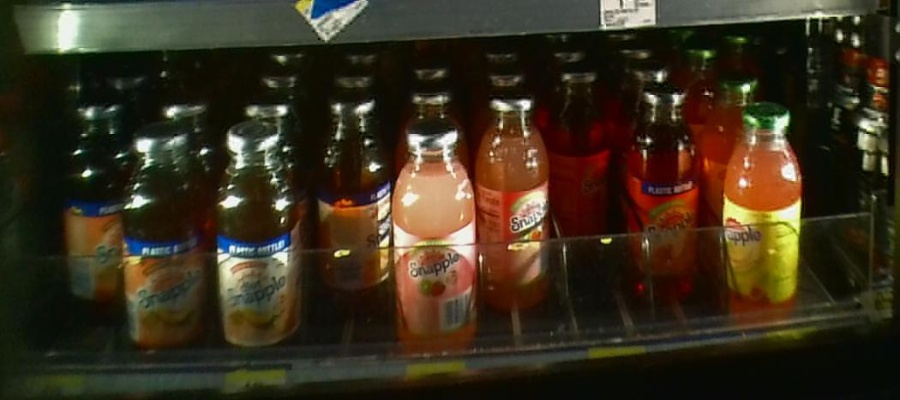bottle: (393, 121, 479, 368), (213, 122, 300, 362), (717, 99, 806, 326), (124, 127, 208, 363), (627, 76, 705, 326), (313, 87, 390, 321), (482, 89, 549, 320), (63, 94, 122, 306), (550, 63, 616, 249)
